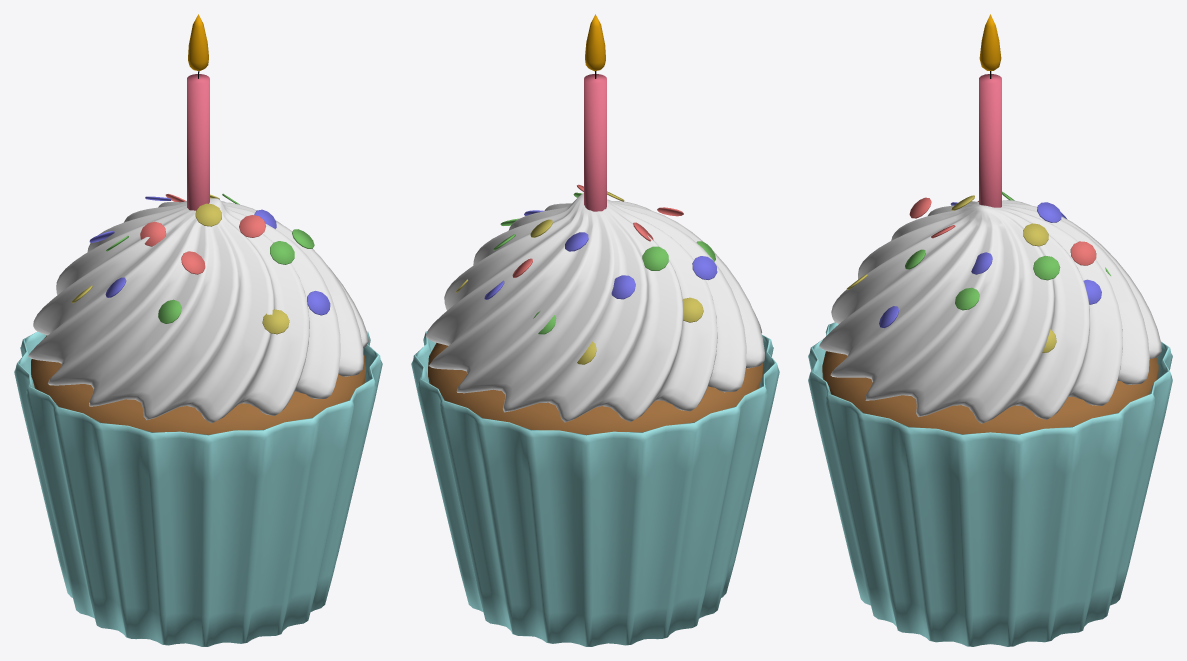
The model's file is happy_birthday_cupcake.glb.
3 renders of one model, left to right at view 1: azimuth 30°, elevation 25°; view 2: azimuth 150°, elevation 25°; view 3: azimuth 270°, elevation 25°, orthographic.
Parts seen in each view (by area): view 1: cup; view 2: cup; view 3: cup.
Boxes of the visible parts, x1=… form: cup: x1=14, y1=14, x2=382, y2=646; cup: x1=411, y1=14, x2=779, y2=646; cup: x1=808, y1=14, x2=1172, y2=646.
Bounding box in the file's own units: 2.75 × 4.88 × 2.75.
